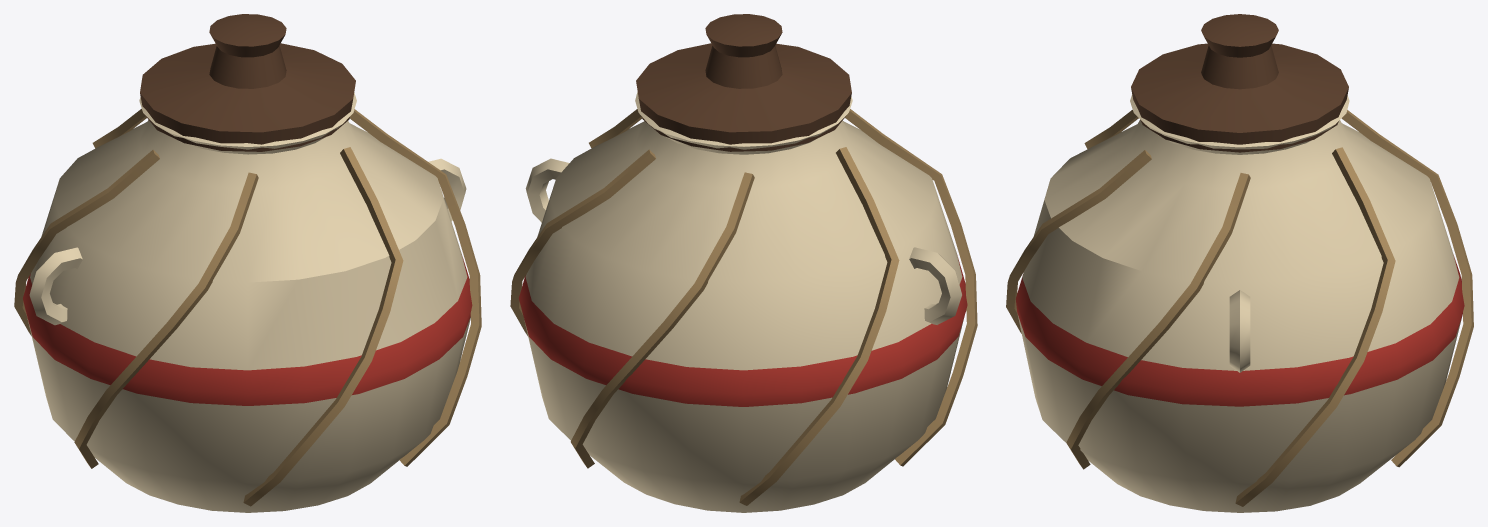
The model's file is deco_gourd_jar_small.fbx.
3 renders of one model, left to right at view 1: azimuth 30°, elevation 25°; view 2: azimuth 150°, elevation 25°; view 3: azimuth 270°, elevation 25°, orthographic.
Parts seen in each view (by area): view 1: GourdJar_Small_Body, GourdJar_Small_Lid, GourdJar_Small_Net; view 2: GourdJar_Small_Body, GourdJar_Small_Lid, GourdJar_Small_Net; view 3: GourdJar_Small_Body, GourdJar_Small_Lid, GourdJar_Small_Net.
Boxes of the visible parts, x1=… form: GourdJar_Small_Body: x1=23, y1=93, x2=472, y2=512; GourdJar_Small_Lid: x1=140, y1=14, x2=355, y2=151; GourdJar_Small_Net: x1=14, y1=109, x2=481, y2=506; GourdJar_Small_Body: x1=518, y1=92, x2=967, y2=512; GourdJar_Small_Lid: x1=636, y1=14, x2=851, y2=151; GourdJar_Small_Net: x1=510, y1=109, x2=977, y2=505; GourdJar_Small_Body: x1=1015, y1=94, x2=1464, y2=512; GourdJar_Small_Lid: x1=1131, y1=14, x2=1348, y2=152; GourdJar_Small_Net: x1=1006, y1=110, x2=1473, y2=506.
Bounding box in the file's own units: 64.8 × 61 × 60.05.
